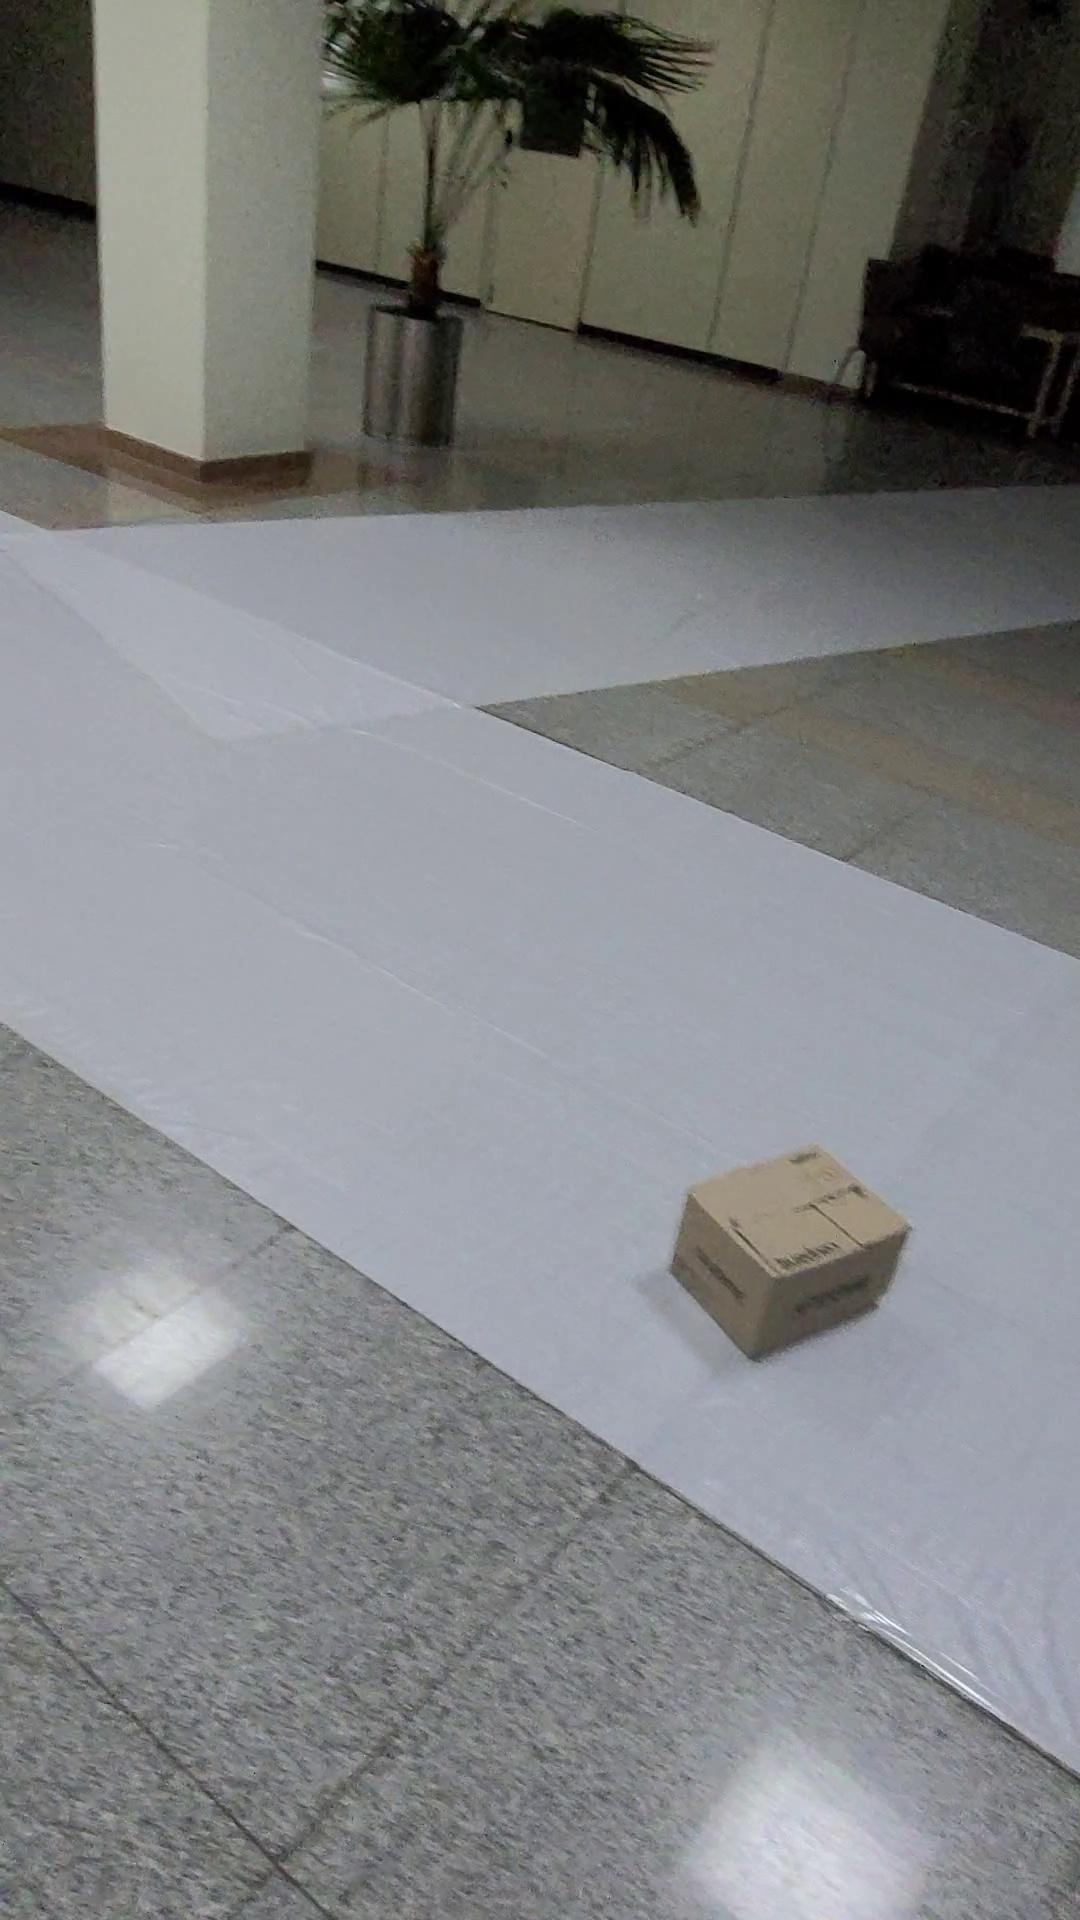Box: (653, 1091, 932, 1379)
